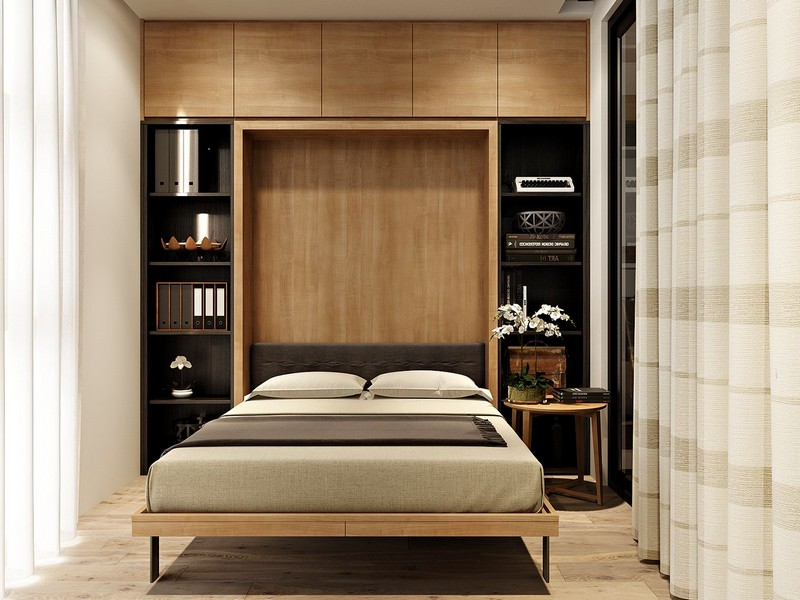bed: (131, 341, 562, 584)
table: (505, 392, 609, 511)
